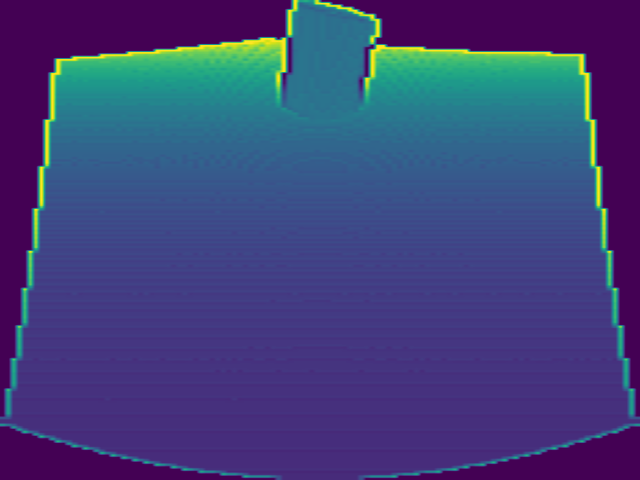cylinder: (276, 1, 381, 118)
